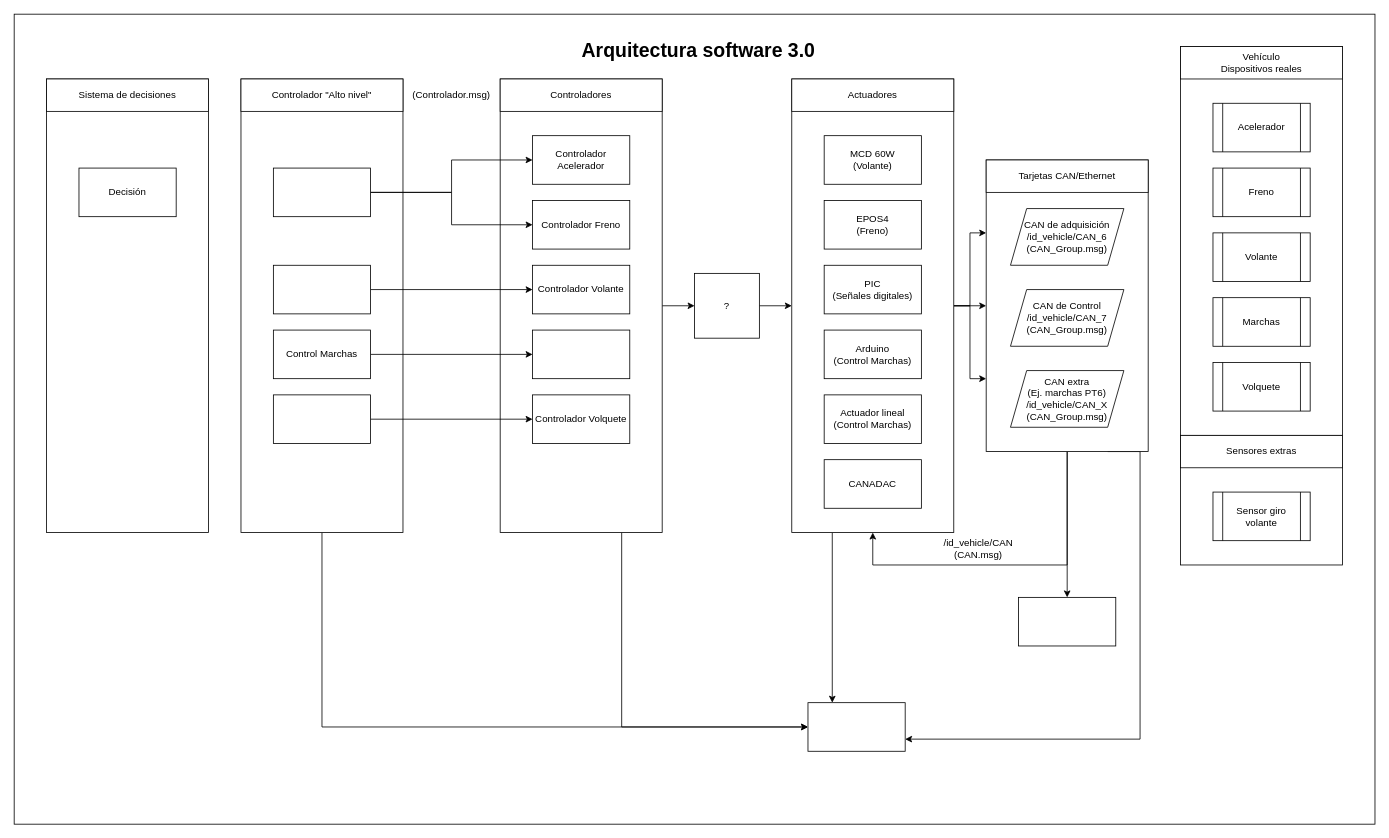
Image size: 1389x838. Some labels were removed from this diagram. The centre of each missing label's shape, as x and y in pixels:
"Control Lateral" belongs at [322,289].
"Control Longitudinal" belongs at [322,192].
"Control Volquete" belongs at [322,418].
"Controlador Marchas" belongs at [581,354].
"Decoder extra CAN" belongs at [1067,621].
"HeartbitMonitor (StringStamped.msg)" belongs at [856,726].
